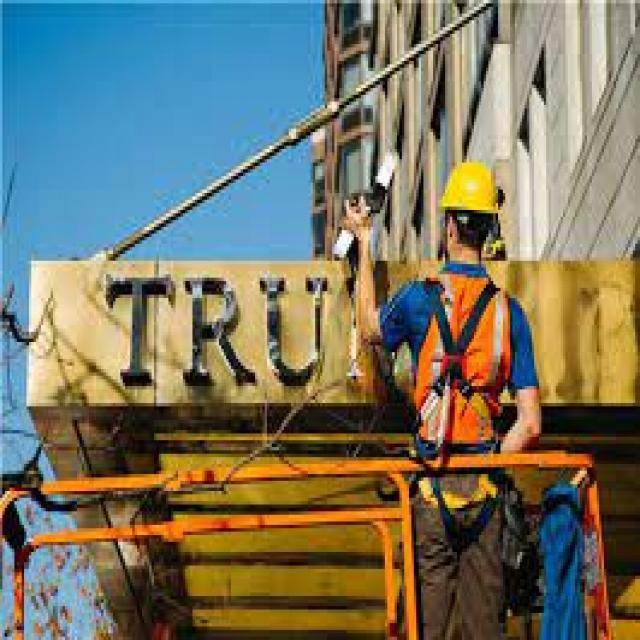belt: (381, 259, 521, 502)
